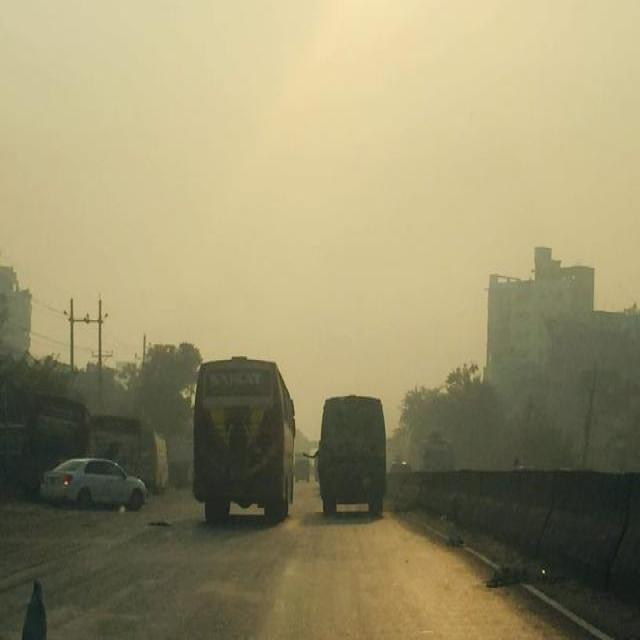bus: (192, 357, 294, 518), (316, 393, 386, 514), (19, 391, 87, 470), (140, 430, 168, 490), (418, 438, 454, 471)
car: (37, 456, 146, 507)
truck: (294, 452, 308, 481)
